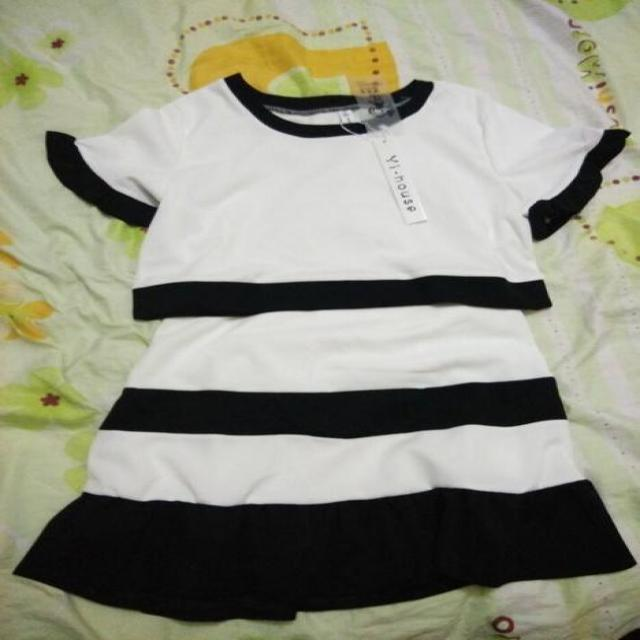short sleeve top: (46, 75, 628, 321)
skirt: (19, 291, 630, 607)
